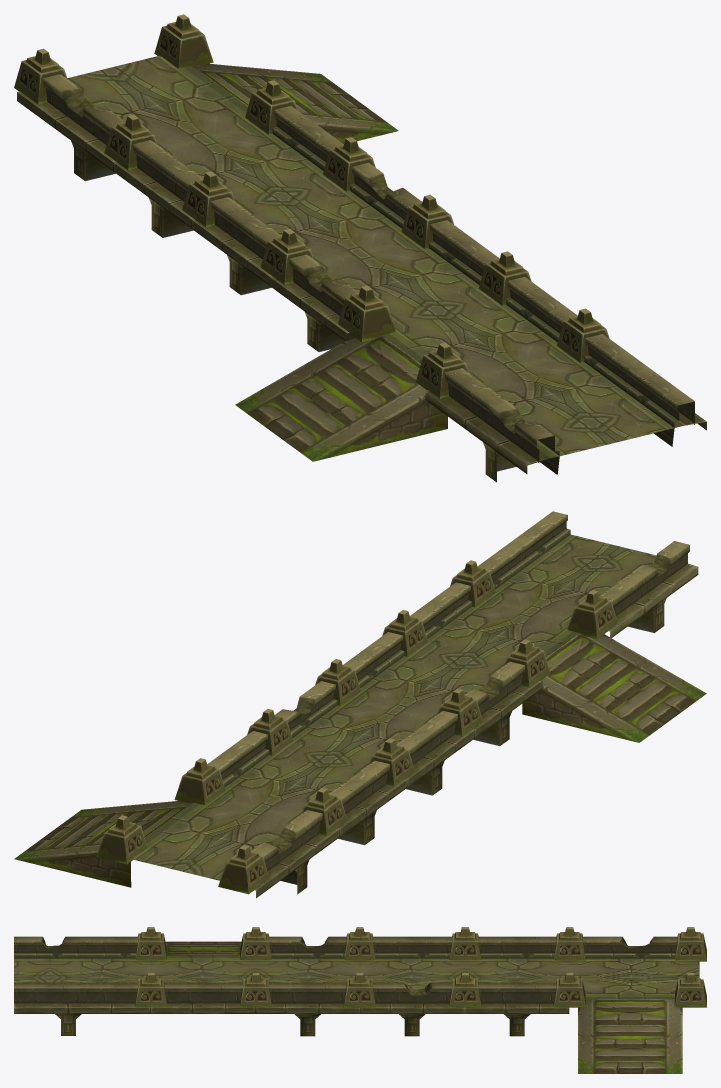
The model's file is FB_1_qiao01.FBX.
3 views of the same model, one above another, from view 1: azimuth 30°, elevation 25°; view 2: azimuth 150°, elevation 25°; view 3: azimuth 270°, elevation 25° (orthographic). The views are drawn at different scales.
Parts seen in each view (by area): view 1: FB_1_qiao01; view 2: FB_1_qiao01; view 3: FB_1_qiao01.
Boxes of the visible parts, bbox=[...] form: FB_1_qiao01: bbox=[14, 14, 706, 482]; FB_1_qiao01: bbox=[14, 511, 706, 898]; FB_1_qiao01: bbox=[14, 927, 706, 1073].
Bounding box in the file's own units: 81791 × 16363 × 181058.
Materials: 1 (1 with a texture image).
